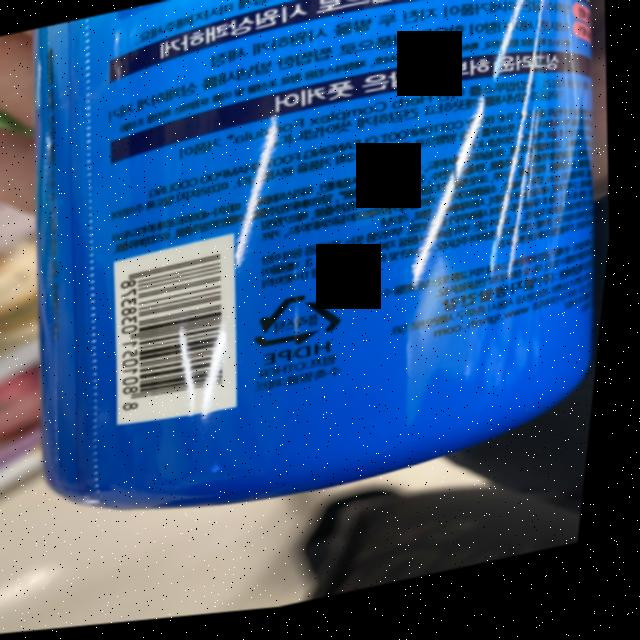Plastic: (254, 288, 356, 361)
